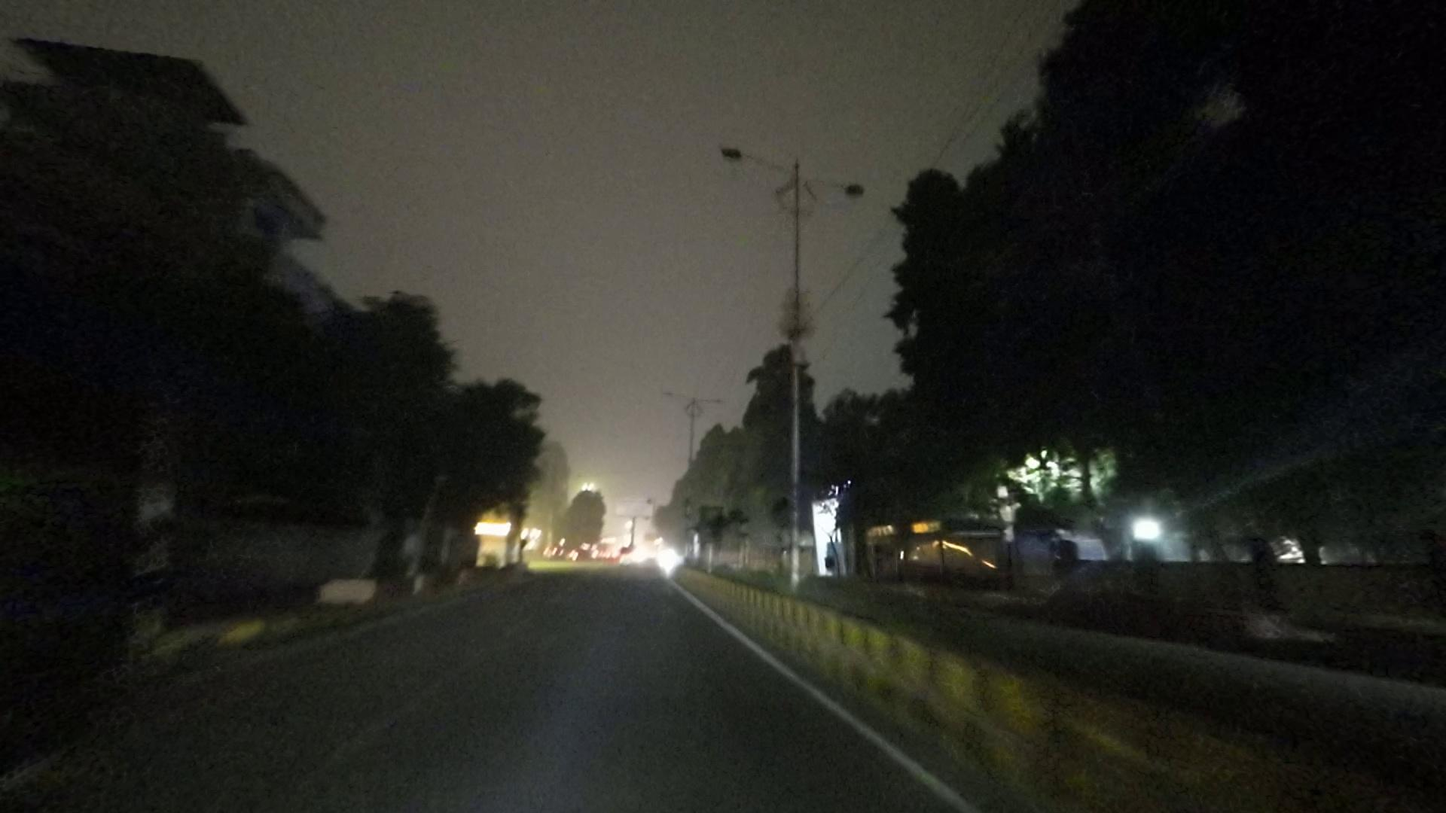streetlight: (717, 142, 793, 175), (812, 171, 868, 200)
